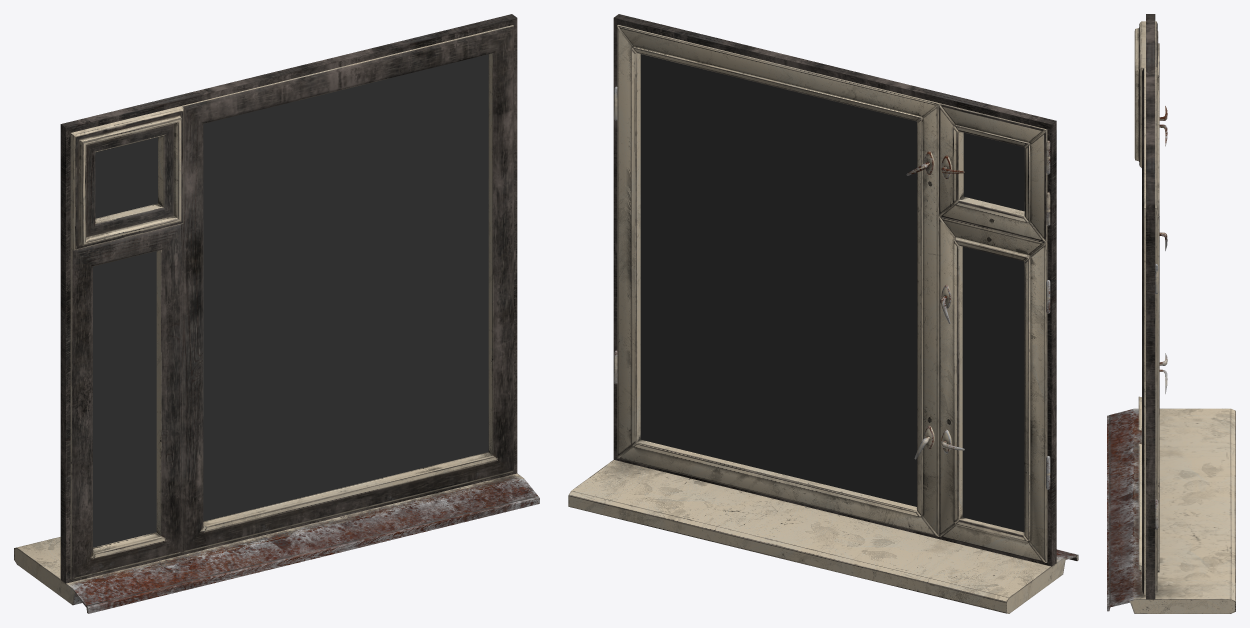
Rendered from SM_WindowNarrow01_Glass.FBX.
3 views of the same model, side by side, from view 1: azimuth 30°, elevation 25°; view 2: azimuth 150°, elevation 25°; view 3: azimuth 270°, elevation 25° (orthographic). The views are drawn at different scales.
Parts seen in each view (by area): view 1: SM_WindowNarrow01_Glass_LOD0; view 2: SM_WindowNarrow01_Glass_LOD0; view 3: SM_WindowNarrow01_Glass_LOD0.
Part boxes in pixels (x1,y1,x2,y2): SM_WindowNarrow01_Glass_LOD0: (14,14,539,613); SM_WindowNarrow01_Glass_LOD0: (568,14,1078,613); SM_WindowNarrow01_Glass_LOD0: (1107,14,1235,613).
Bounding box in the file's own units: 140 × 39.96 × 140.
